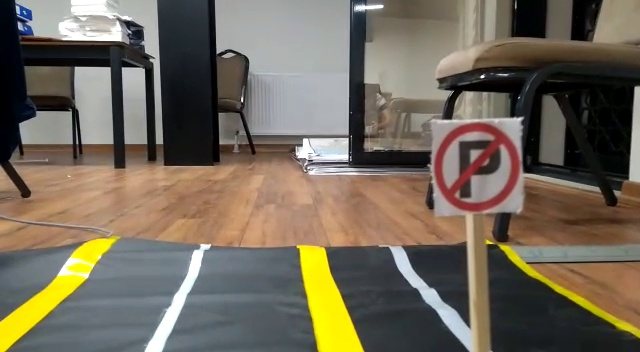park_yapilmaz: (428, 116, 528, 216)
